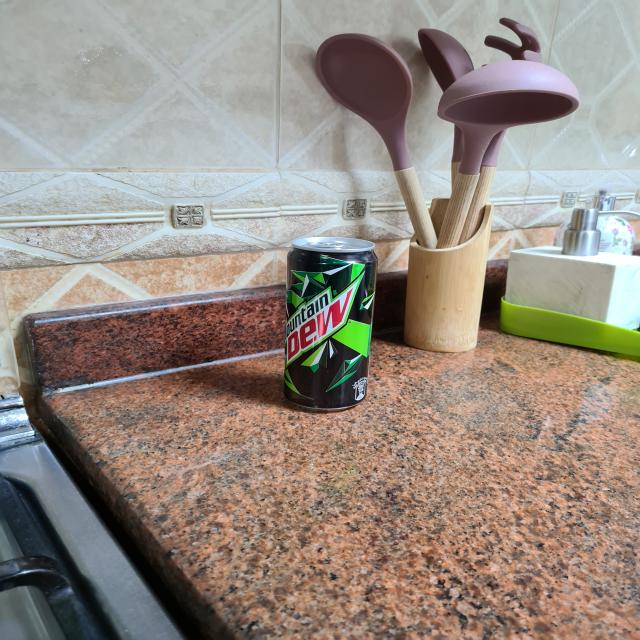non-organic waste: (282, 235, 371, 415)
